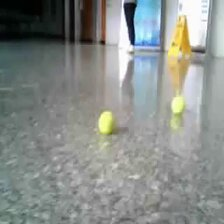tennis: (97, 111, 113, 134), (171, 97, 185, 113)
